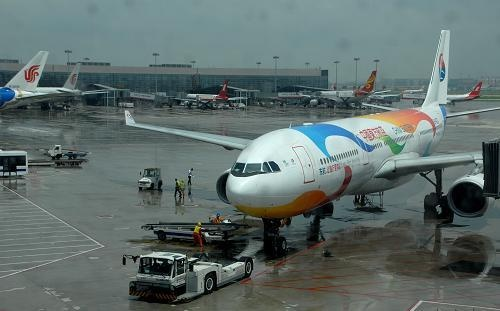airplane: (98, 26, 500, 227)
